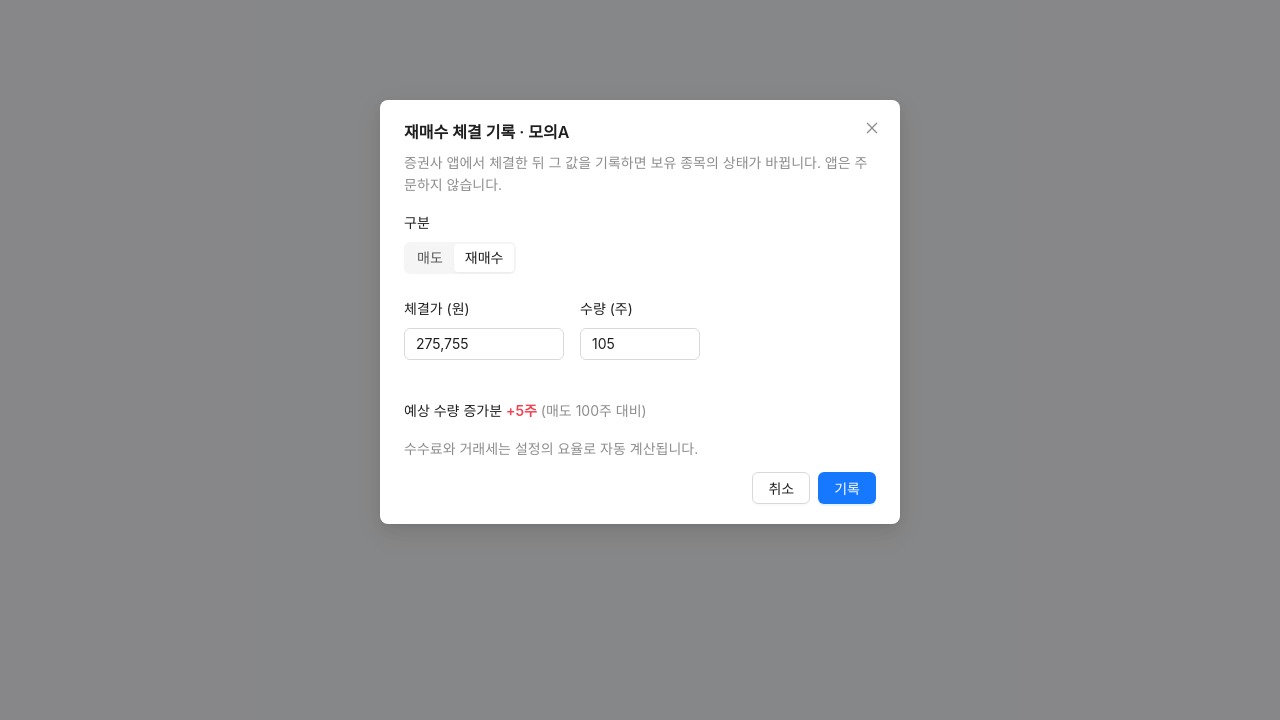
FillModal › reports the quantity gain after a rebuy
Click the button "기록": (847, 488) [818,472,876,504]
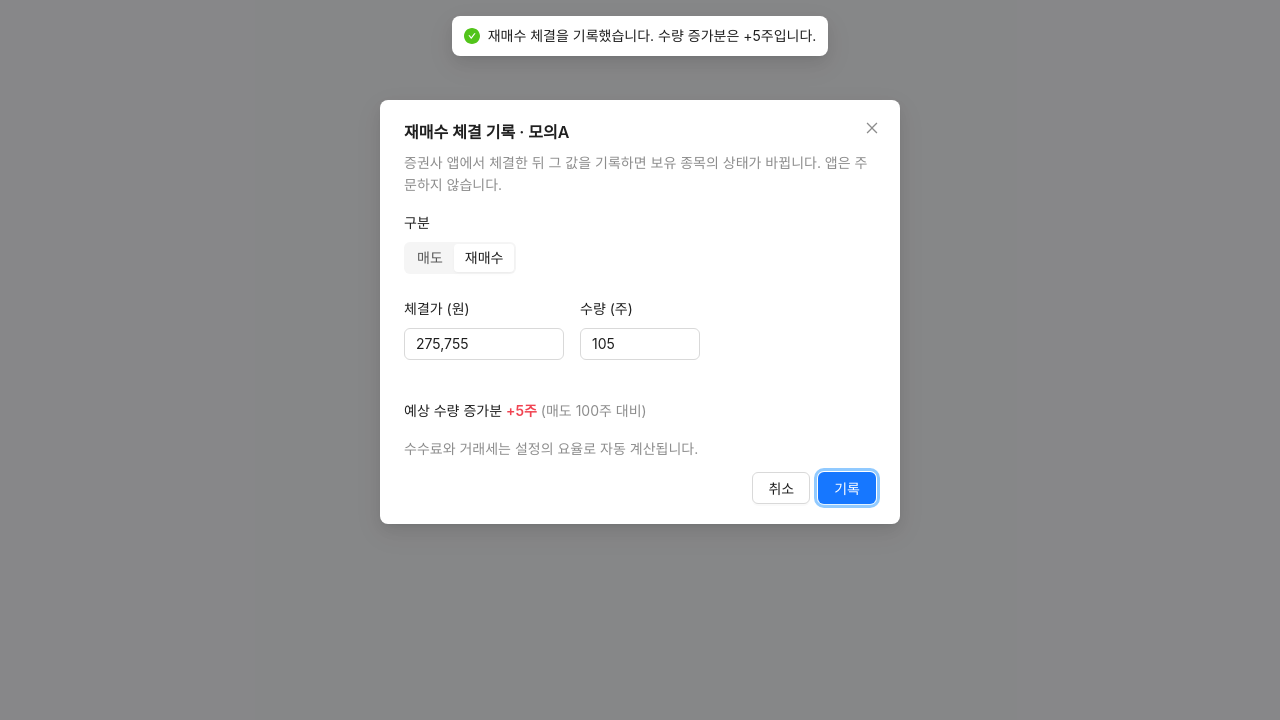
Expected: the text "재매수 체결을 기록했습니다. 수량 증가분은 +5주입니다." is shown, [488,25,816,47]
